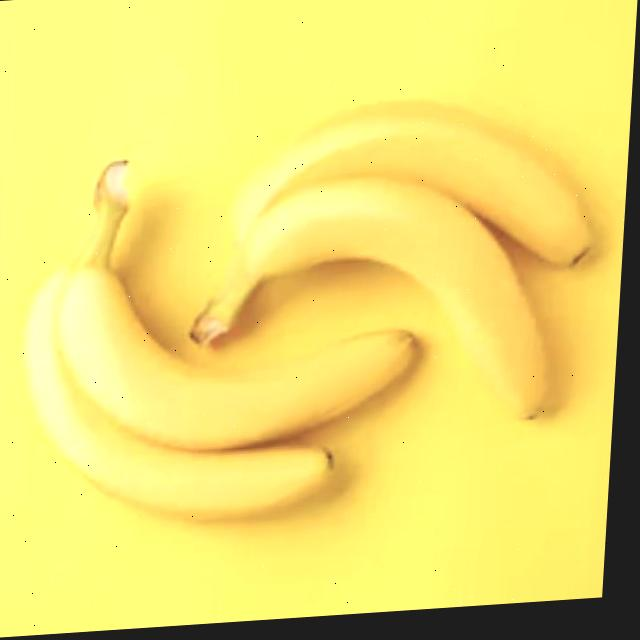banana: (148, 79, 627, 405), (0, 244, 437, 565)
